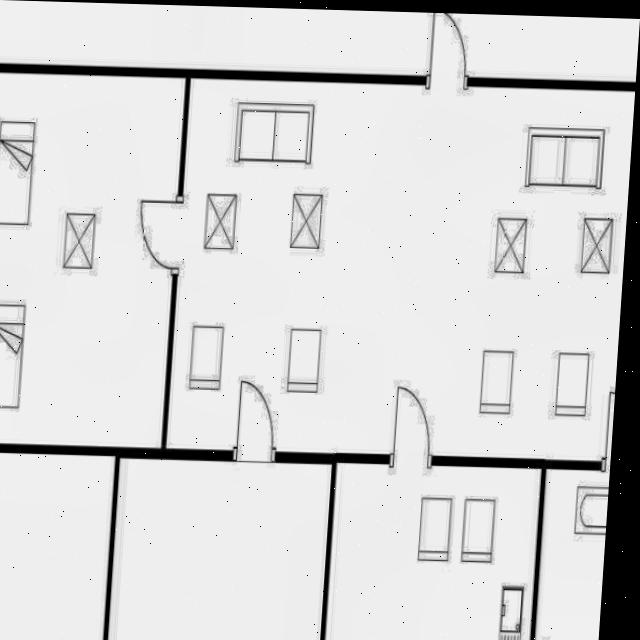room: (166, 78, 635, 462), (0, 73, 186, 449), (108, 458, 332, 640), (325, 463, 541, 640), (535, 467, 610, 640)
